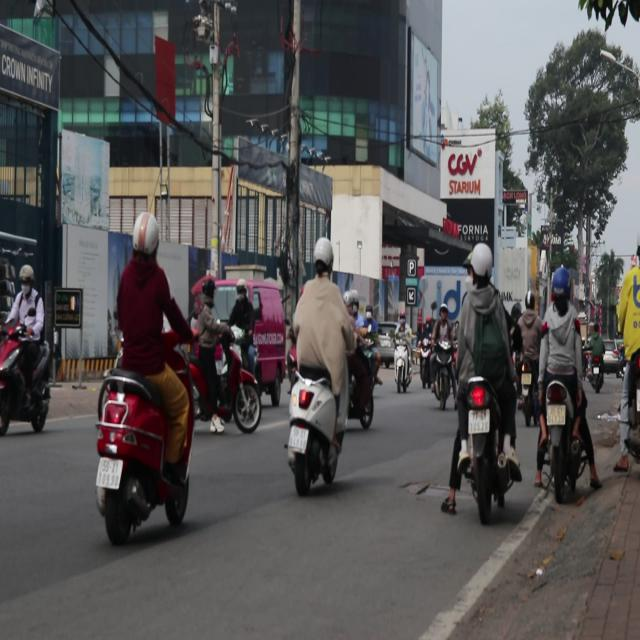car: (602, 340, 624, 374), (377, 331, 394, 365)
motorbike: (95, 368, 192, 542), (462, 370, 519, 532), (184, 331, 262, 434), (284, 371, 346, 497), (0, 306, 53, 434), (542, 374, 586, 508), (225, 345, 263, 433), (348, 348, 378, 433), (436, 336, 453, 415), (395, 336, 413, 394), (586, 348, 606, 394)
